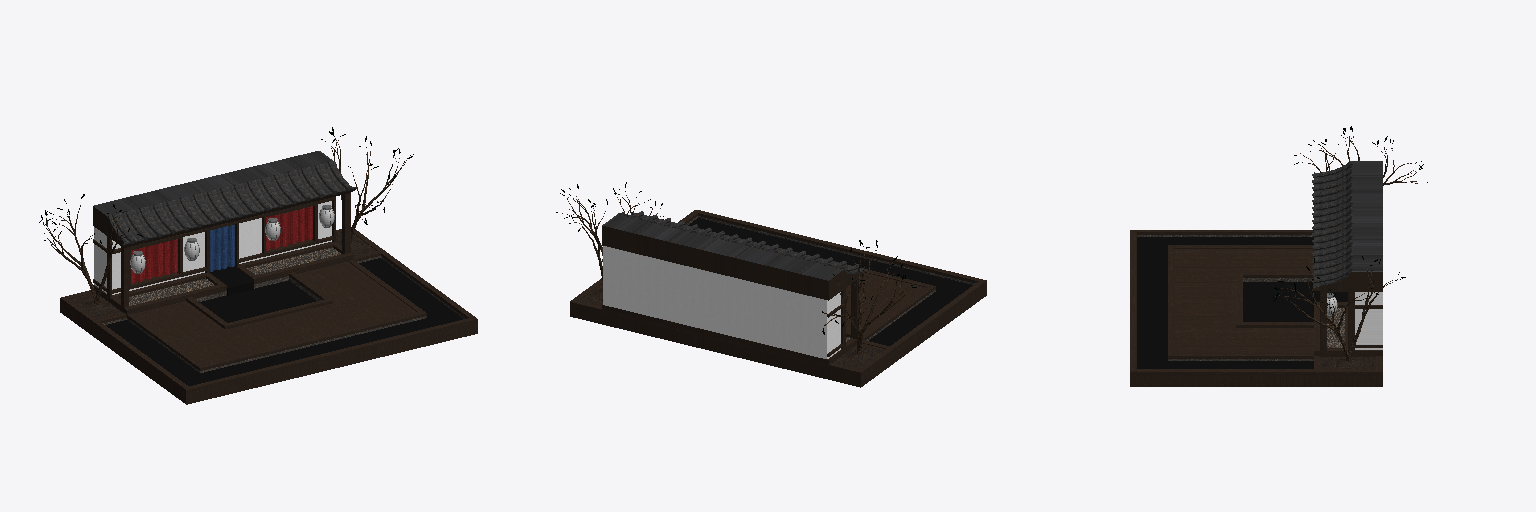
3 renders of one model, left to right at view 1: azimuth 30°, elevation 25°; view 2: azimuth 150°, elevation 25°; view 3: azimuth 270°, elevation 25°, orthographic.
Parts seen in each view (by area): view 1: Plane, Plane.053_Plane.059, Plane.052_Plane.058, Plane.035_Plane.036, Plane.064_Plane.070, NurbsPath, Plane.025, Plane.009, Plane.049_Plane.055, Plane.006, Plane.036_Plane.050, Plane.034_Plane.035 (+18 smaller); view 2: Plane.025, Plane.052_Plane.058, Plane.033_Plane.034, Plane.053_Plane.059, Plane.064_Plane.070, Plane, Plane.049_Plane.055, Plane.015, NurbsPath, tree.001, Plane.045_Plane.051, Plane.048_Plane.054 (+4 smaller); view 3: Plane, Plane.053_Plane.059, Plane.064_Plane.070, Plane.052_Plane.058, NurbsPath, Plane.009, Plane.035_Plane.036, Plane.025, Plane.047_Plane.053, Plane.049_Plane.055, tree.002, Plane.033_Plane.034 (+6 smaller).
Part boxes in pixels (bbox=[...]): Plane: bbox=[134, 262, 416, 364]; Plane.053_Plane.059: bbox=[106, 258, 462, 385]; Plane.052_Plane.058: bbox=[60, 301, 477, 404]; Plane.035_Plane.036: bbox=[116, 163, 346, 242]; Plane.064_Plane.070: bbox=[94, 151, 332, 216]; NurbsPath: bbox=[112, 161, 350, 243]; Plane.025: bbox=[94, 201, 331, 294]; Plane.009: bbox=[199, 280, 316, 322]; Plane.049_Plane.055: bbox=[183, 317, 477, 392]; Plane.006: bbox=[197, 311, 426, 370]; Plane.036_Plane.050: bbox=[131, 239, 177, 283]; Plane.034_Plane.035: bbox=[266, 206, 312, 250]; Plane.025: bbox=[603, 246, 840, 358]; Plane.052_Plane.058: bbox=[570, 284, 986, 387]; Plane.033_Plane.034: bbox=[602, 226, 865, 300]; Plane.053_Plane.059: bbox=[688, 218, 972, 345]; Plane.064_Plane.070: bbox=[602, 214, 843, 280]; Plane: bbox=[846, 273, 925, 333]; Plane.049_Plane.055: bbox=[693, 210, 986, 284]; Plane.015: bbox=[602, 308, 862, 367]; NurbsPath: bbox=[621, 211, 858, 271]; tree.001: bbox=[824, 246, 908, 354]; Plane.045_Plane.051: bbox=[686, 216, 975, 340]; Plane.048_Plane.054: bbox=[890, 282, 983, 349]; Plane: bbox=[1174, 249, 1313, 352]; Plane.053_Plane.059: bbox=[1137, 237, 1313, 368]; Plane.064_Plane.070: bbox=[1352, 161, 1382, 271]; Plane.052_Plane.058: bbox=[1130, 375, 1382, 386]; NurbsPath: bbox=[1312, 161, 1352, 282]; Plane.009: bbox=[1243, 282, 1313, 321]; Plane.035_Plane.036: bbox=[1314, 164, 1351, 278]; Plane.025: bbox=[1355, 292, 1382, 349]; Plane.047_Plane.053: bbox=[1137, 369, 1313, 374]; Plane.049_Plane.055: bbox=[1130, 230, 1136, 374]; tree.002: bbox=[1275, 265, 1397, 361]; Plane.033_Plane.034: bbox=[1315, 272, 1382, 291].
Bounding box in the file's own units: 27.11 × 8.33 × 19.21.
Materials: 13 (10 with a texture image).